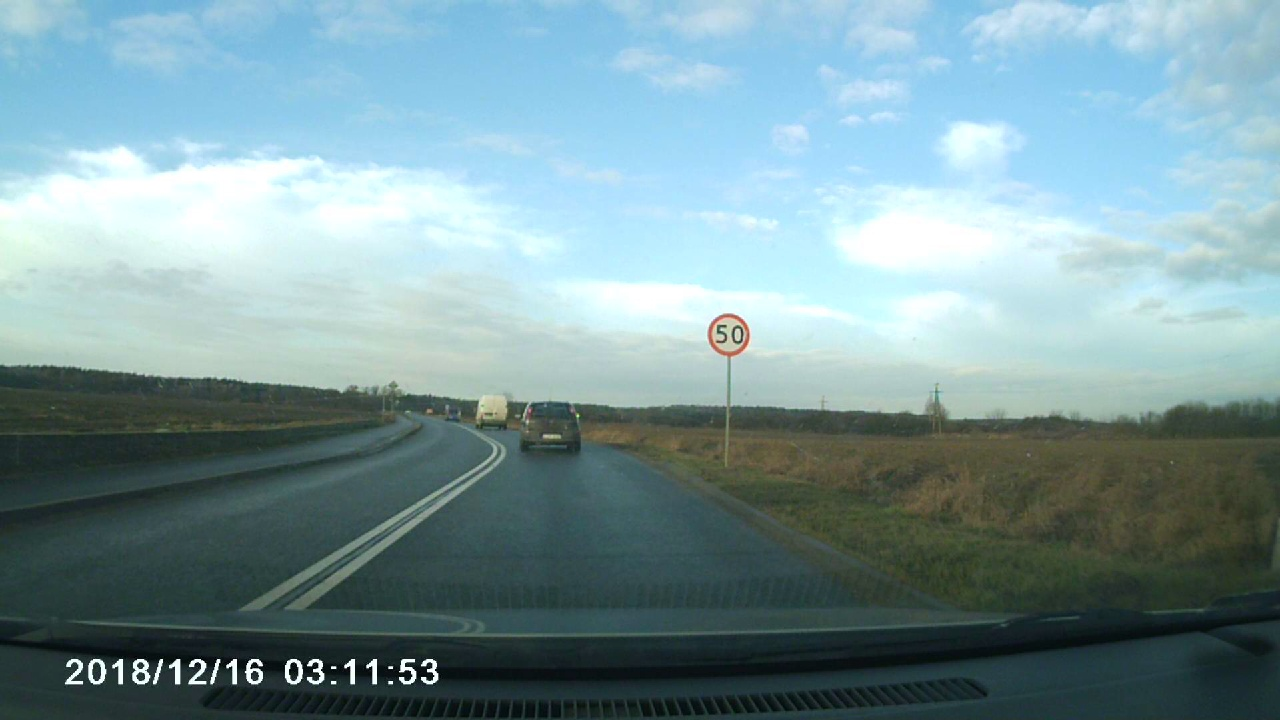B33_50: (708, 314, 750, 357)
